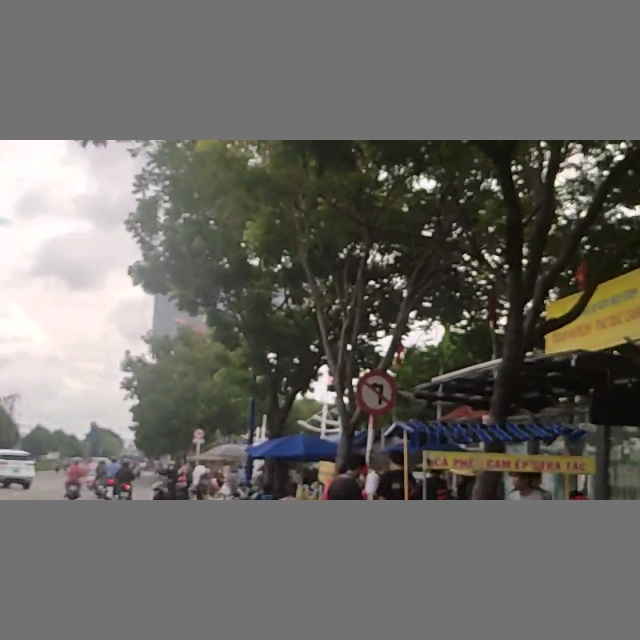P.123a: (357, 373, 392, 412)
